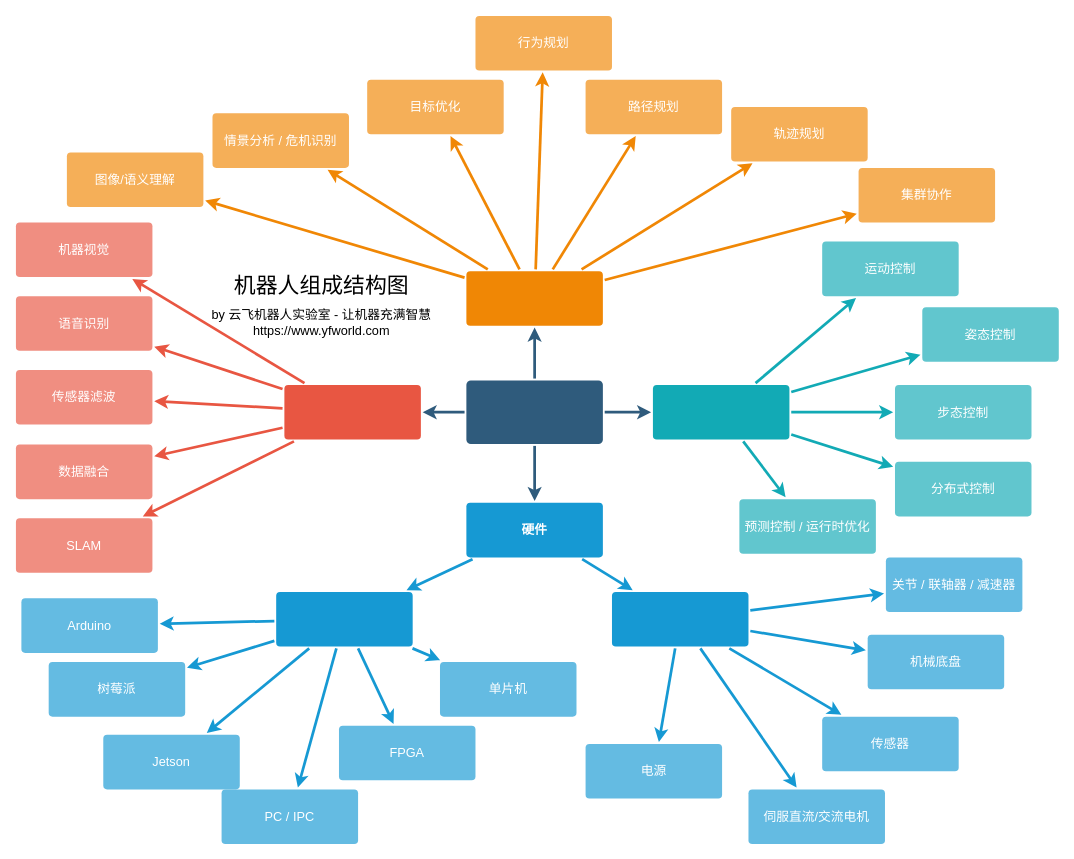
Some shapes in this 1074 by 859 pixel diagram are drawn without their labels. Here are the shapes that lost their labels. From the top down, the box of each, then its label:
(466, 271, 602, 325): 决策
(284, 384, 420, 439): 感知
(466, 380, 602, 444): 机器人系统
(652, 384, 789, 439): 控制
(276, 592, 412, 646): 计算硬件
(612, 592, 748, 646): 非计算硬件
